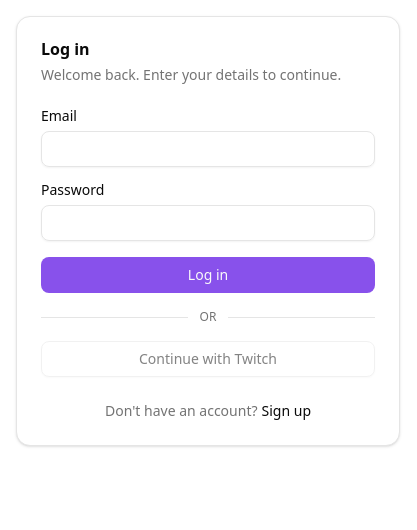
Test case: LoginPage › error de servidor: reemplaza el form por un ErrorState con retry
Step 1. Type "alex@example.com" into the field labelled "Email" → (208, 149), box [41,131,375,167]
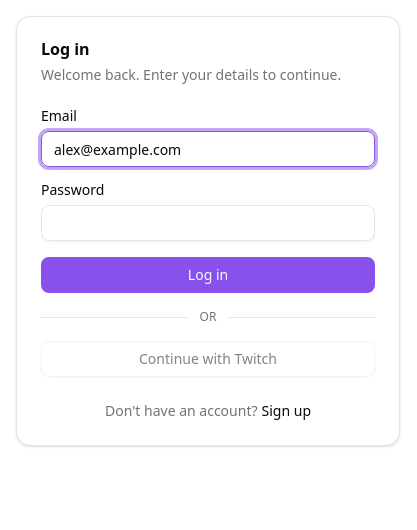
Step 2. Type "password123" into the password field labelled "Password" → (208, 223), box [41,205,375,241]
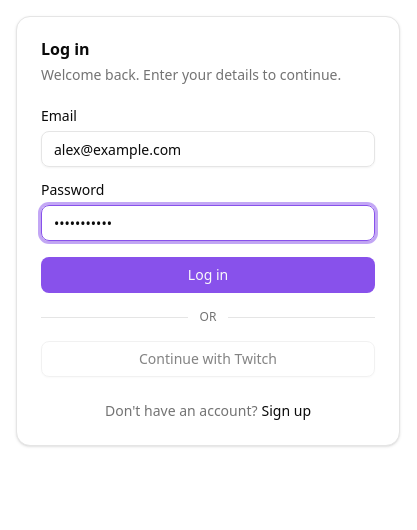
Step 3. Click the button "Log in" → click(208, 275), box [41,257,375,293]
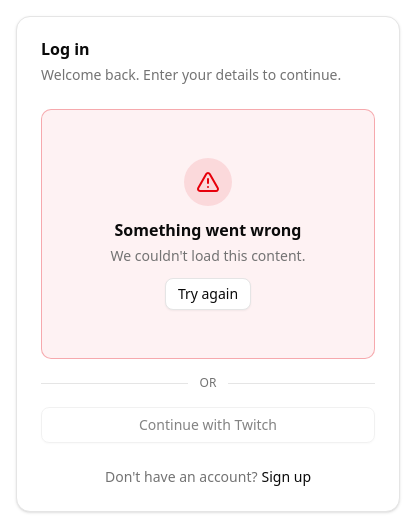
Now the message "Something went wrong We couldn't load this content. Try again" is shown, box [41,109,375,359]
Now the heading "Something went wrong" is shown, box [111,218,305,242]
Now the button "Try again" is shown, box [165,278,251,310]
